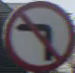Don't turn left: (11, 6, 63, 61)
